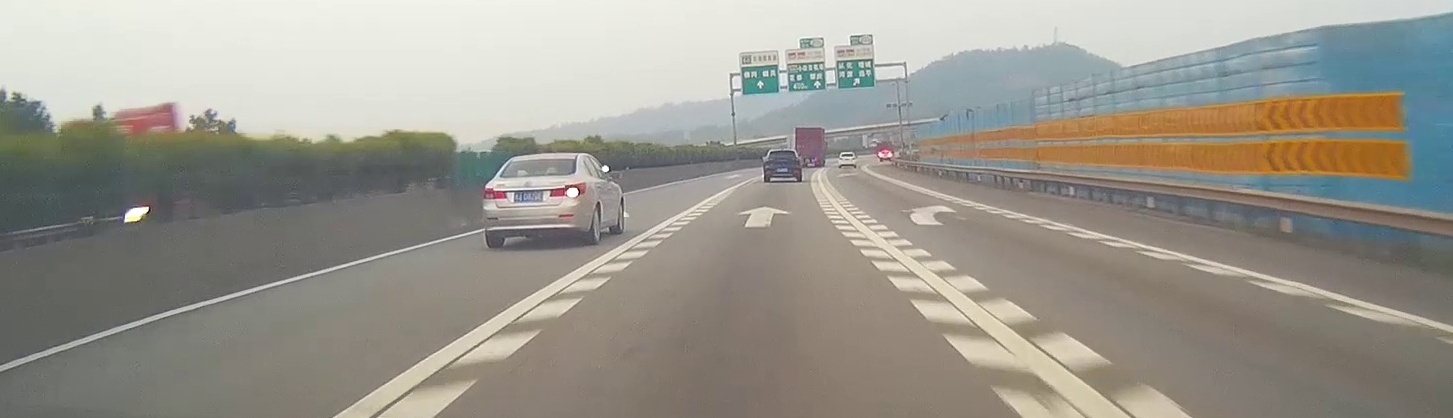L_light: (483, 188, 506, 200), (764, 160, 772, 163)
R_light: (549, 182, 585, 198), (791, 160, 800, 164)
T_light: (532, 158, 548, 162), (778, 150, 786, 153)
day-no: (763, 149, 802, 182)
day-right: (483, 152, 587, 248)
